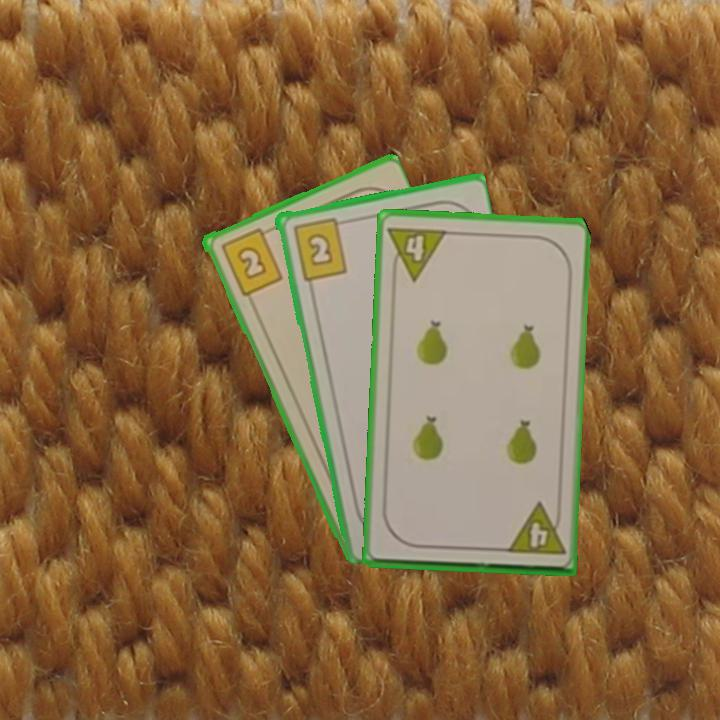2b: (217, 224, 285, 299), (289, 214, 350, 283)
4p: (385, 222, 450, 283), (503, 500, 568, 558)
